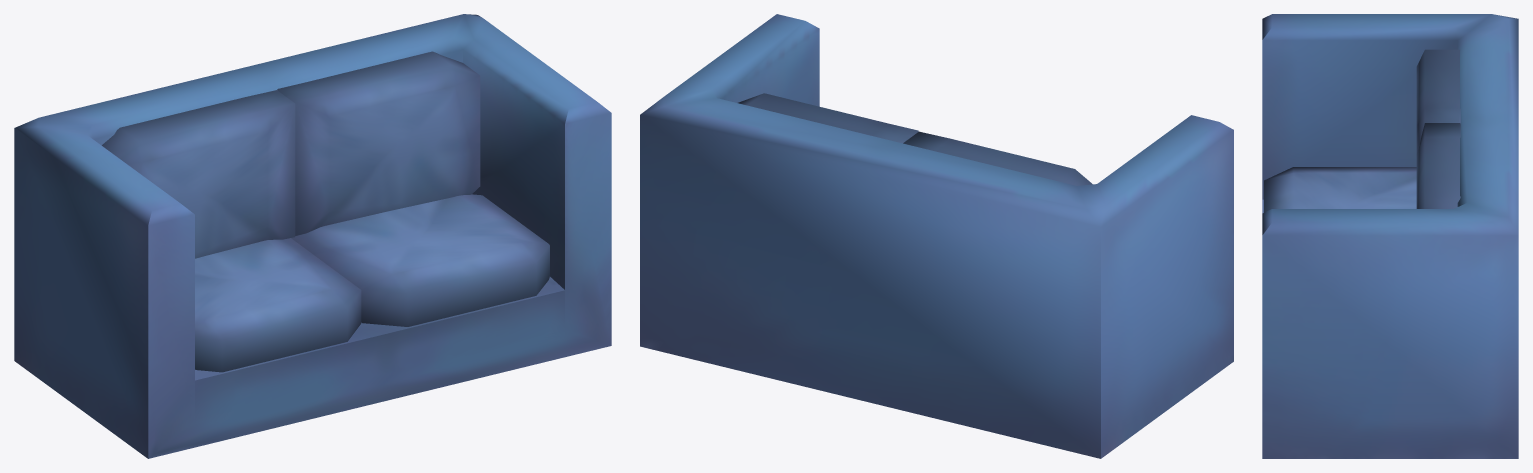
The model's file is couch.glb.
The picture shows the model from 3 angles, left to right: view 1: azimuth 30°, elevation 25°; view 2: azimuth 150°, elevation 25°; view 3: azimuth 270°, elevation 25°; orthographic projection. The views are drawn at different scales.
Parts seen in each view (by area): view 1: Cube, Cube.003, Cube.002, Cube.004, Cube.001; view 2: Cube, Cube.004, Cube.003; view 3: Cube, Cube.001, Cube.003, Cube.004.
Boxes of the visible parts, bbox=[...] form: Cube: bbox=[14, 14, 611, 458]; Cube.003: bbox=[277, 51, 480, 235]; Cube.002: bbox=[291, 194, 549, 326]; Cube.004: bbox=[102, 90, 295, 258]; Cube.001: bbox=[195, 238, 361, 372]; Cube: bbox=[640, 14, 1233, 458]; Cube.004: bbox=[903, 131, 1092, 185]; Cube.003: bbox=[738, 93, 918, 143]; Cube: bbox=[1262, 14, 1518, 458]; Cube.001: bbox=[1264, 167, 1416, 212]; Cube.003: bbox=[1416, 123, 1460, 208]; Cube.004: bbox=[1416, 49, 1460, 153].
Size of the model in its own units: 2 by 1 by 1.
Materials: 1 (1 with a texture image).
